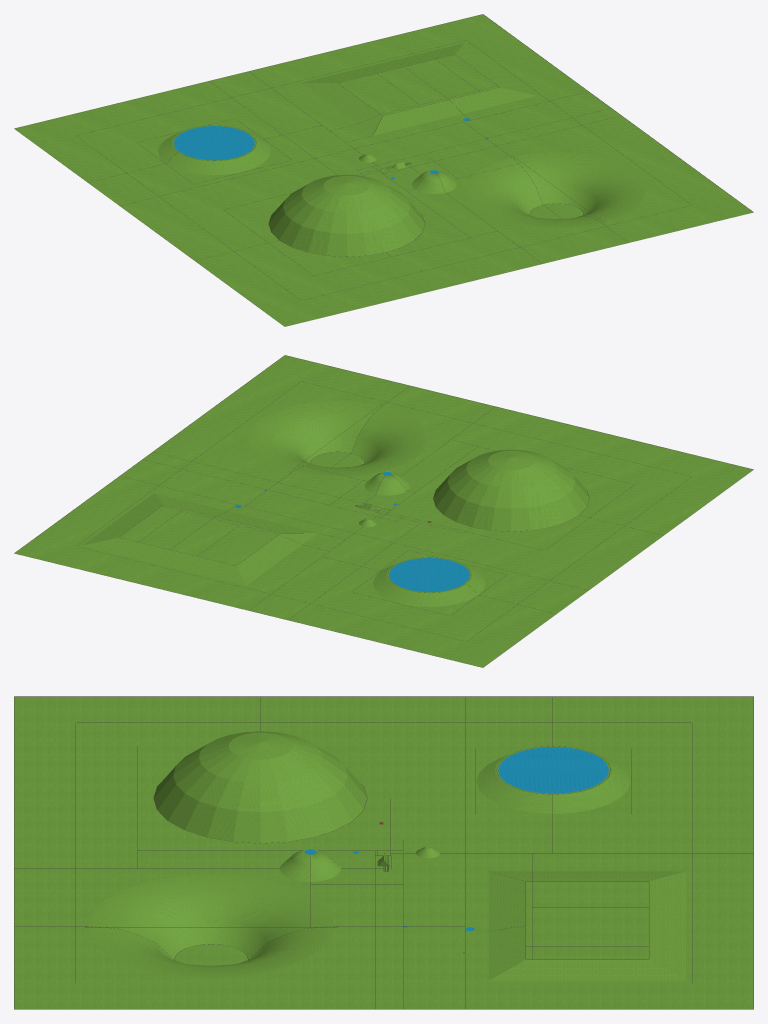
Rendered from World.dae.
The picture shows the model from 3 angles, top to bottom: view 1: azimuth 30°, elevation 25°; view 2: azimuth 150°, elevation 25°; view 3: azimuth 270°, elevation 25°; orthographic projection. The views are drawn at different scales.
Parts seen in each view (by area): view 1: G-StreetAndMeadow, G-Water; view 2: G-StreetAndMeadow, G-Water; view 3: G-StreetAndMeadow, G-Water.
Boxes of the visible parts, bbox=[...] form: G-StreetAndMeadow: bbox=[14, 14, 753, 326]; G-Water: bbox=[174, 118, 487, 179]; G-StreetAndMeadow: bbox=[14, 355, 753, 667]; G-Water: bbox=[235, 472, 469, 592]; G-StreetAndMeadow: bbox=[14, 696, 753, 1009]; G-Water: bbox=[304, 747, 608, 930].
Bounding box in the file's own units: 12000 × 12000 × 1600.
19 materials, 18 textured.
